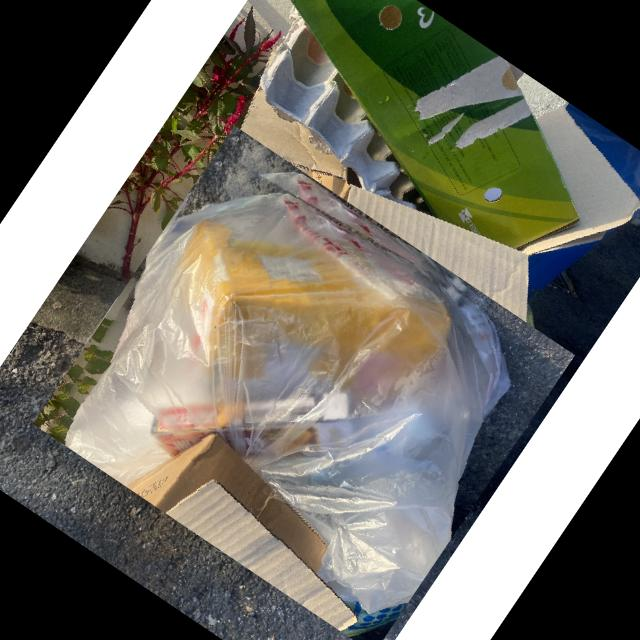other_trashbag: (66, 188, 509, 610)
